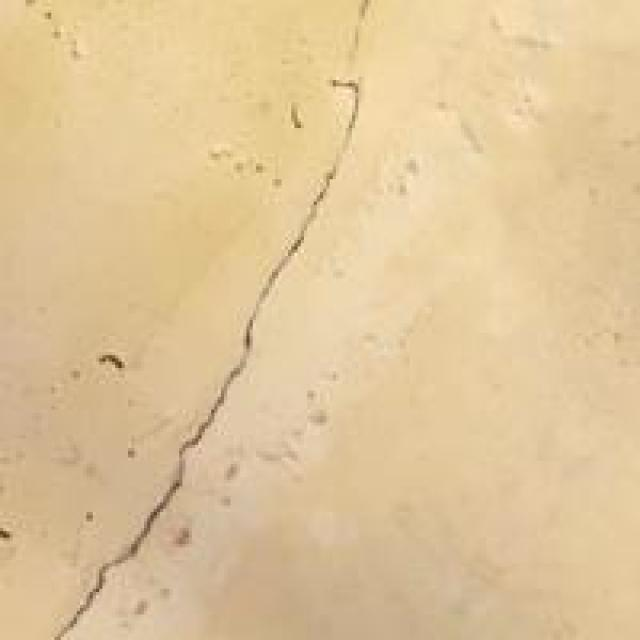crack: (38, 58, 464, 636)
